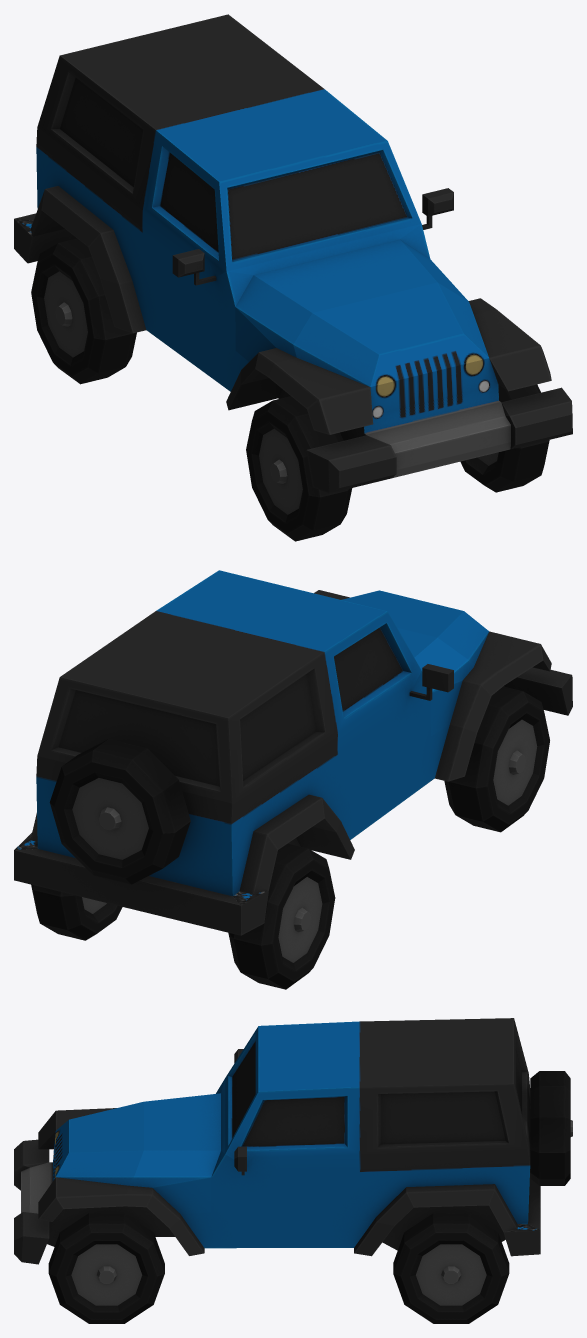
Rendered from Jeep.gltf.
3 renders of one model, top to bottom at view 1: azimuth 30°, elevation 25°; view 2: azimuth 150°, elevation 25°; view 3: azimuth 270°, elevation 25°, orthographic. The views are drawn at different scales.
Parts seen in each view (by area): view 1: node-0; view 2: node-0; view 3: node-0.
Boxes of the visible parts, x1,y1,x2,y2 form: node-0: [14, 14, 572, 541]; node-0: [14, 570, 572, 989]; node-0: [14, 1018, 572, 1323].
Size of the model in its own units: 11.93 by 11.78 by 26.15.
1 material, 1 textured.
